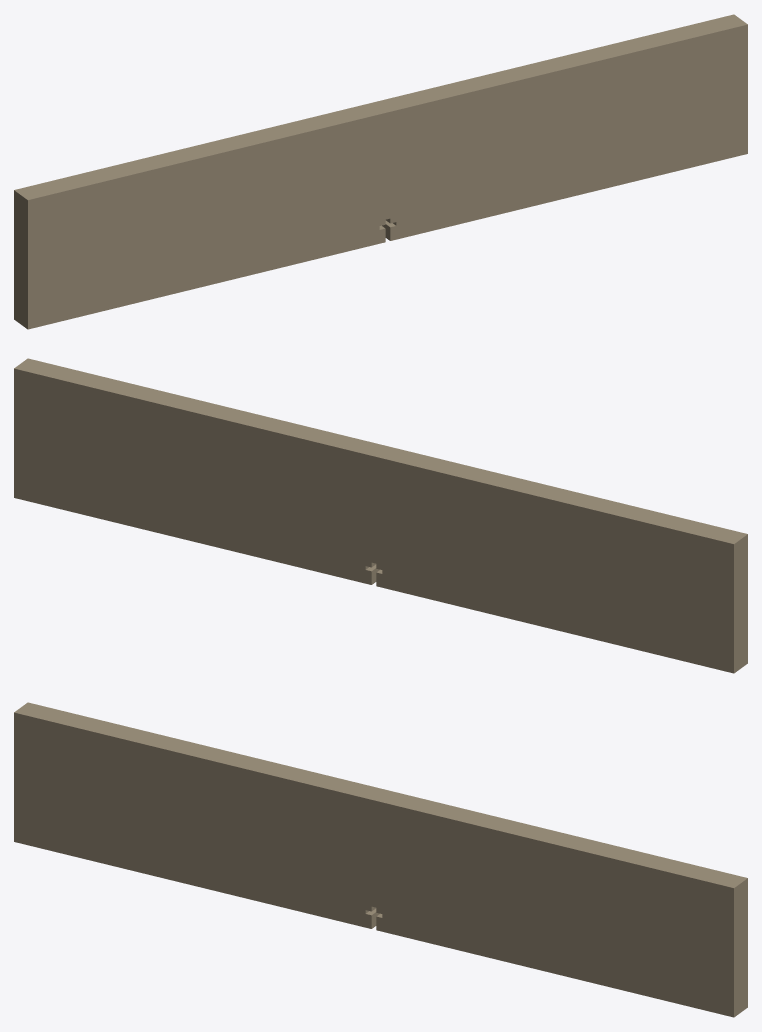
File: Walls1.glb
The picture shows the model from 3 angles, top to bottom: view 1: azimuth 30°, elevation 25°; view 2: azimuth 150°, elevation 25°; view 3: azimuth 330°, elevation 25°; orthographic projection.
Visible parts, largest first — view 1: Cube; view 2: Cube; view 3: Cube.
Boxes of the visible parts, <box> form: Cube: <box>14,14,747,329</box>; Cube: <box>14,358,747,673</box>; Cube: <box>14,702,747,1017</box>.
Bounding box in the file's own units: 60 × 10.3 × 2.
